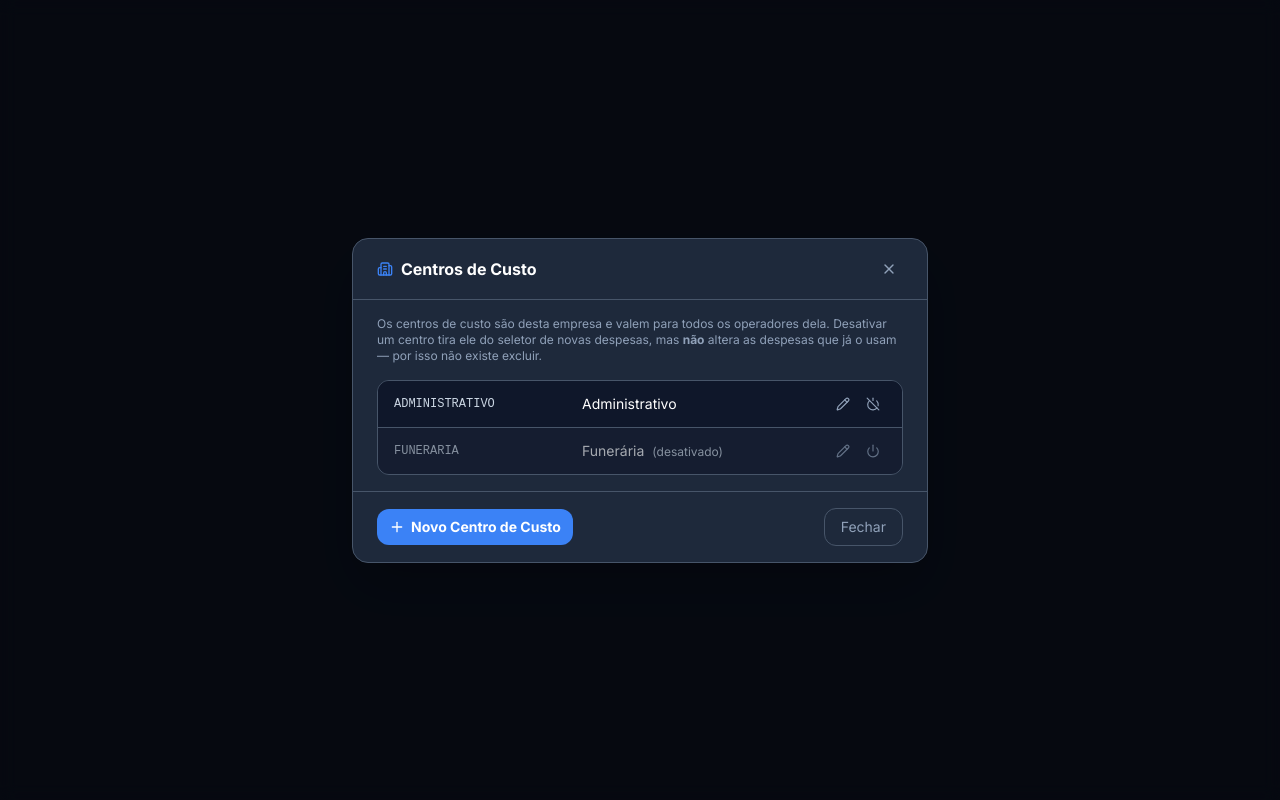
Scenario: CentrosCustoModal › gera o código a partir do nome digitado, sem deixar editar
Click the button "Novo Centro de Custo" at (475,526), box top-left (377, 508), bottom-right (573, 544)
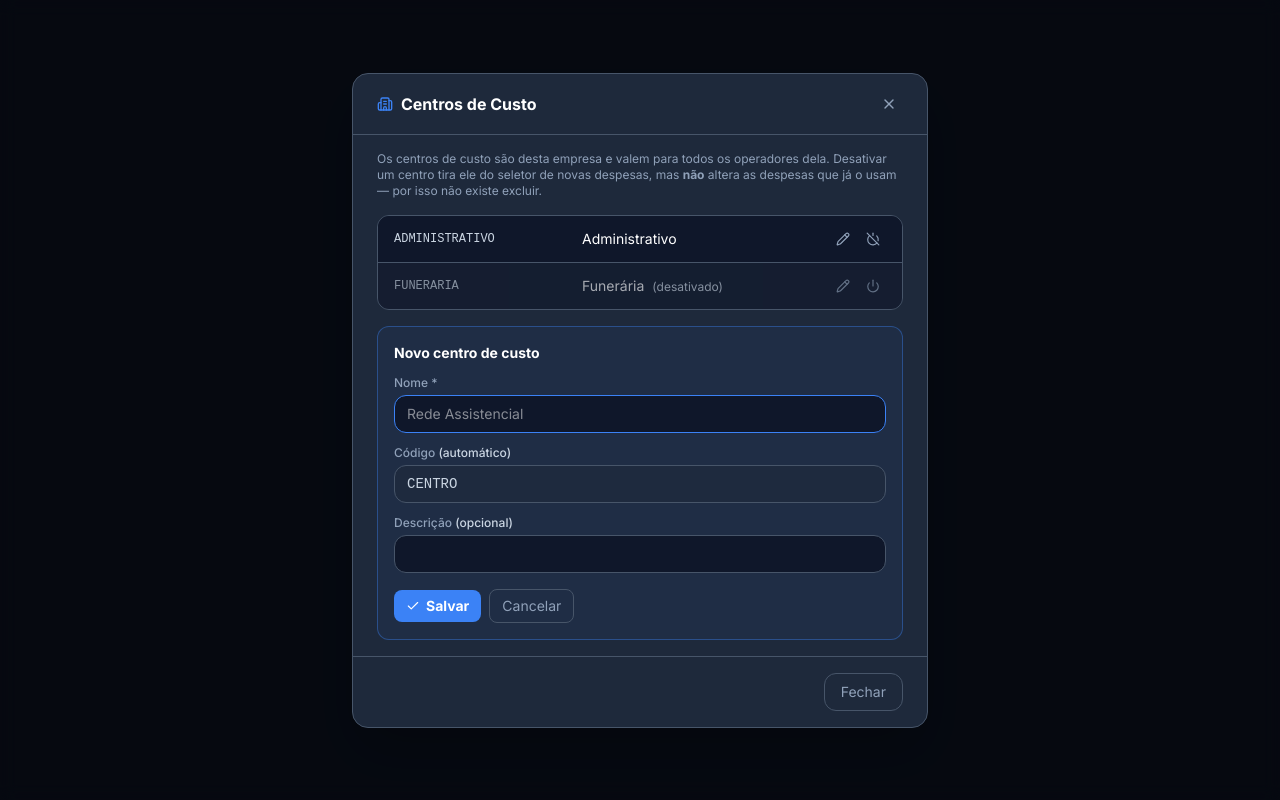
Type "Comercial / Vendas" into the field with placeholder "Rede Assistencial" at (640,414), box top-left (394, 394), bottom-right (886, 432)
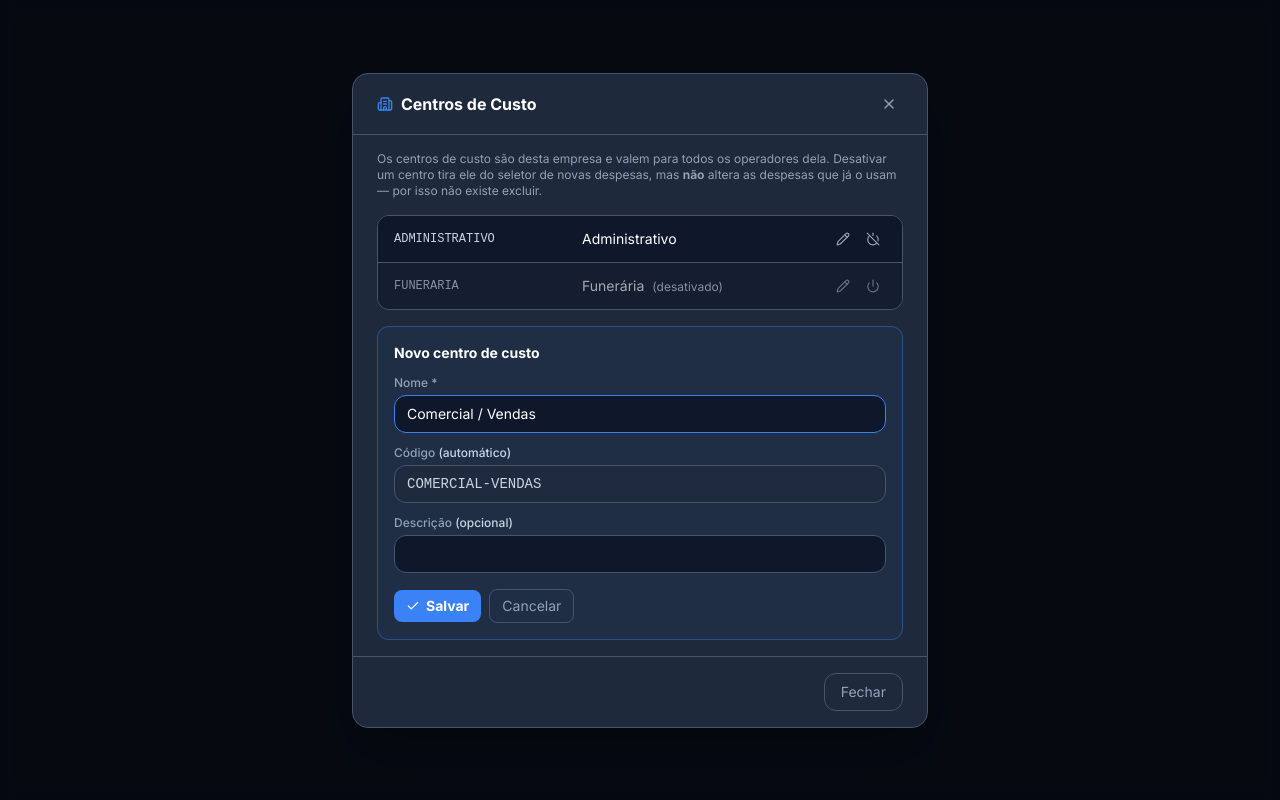
Now the field titled "Gerado a partir do nome." holds "COMERCIAL-VENDAS", box top-left (394, 464), bottom-right (886, 502)
